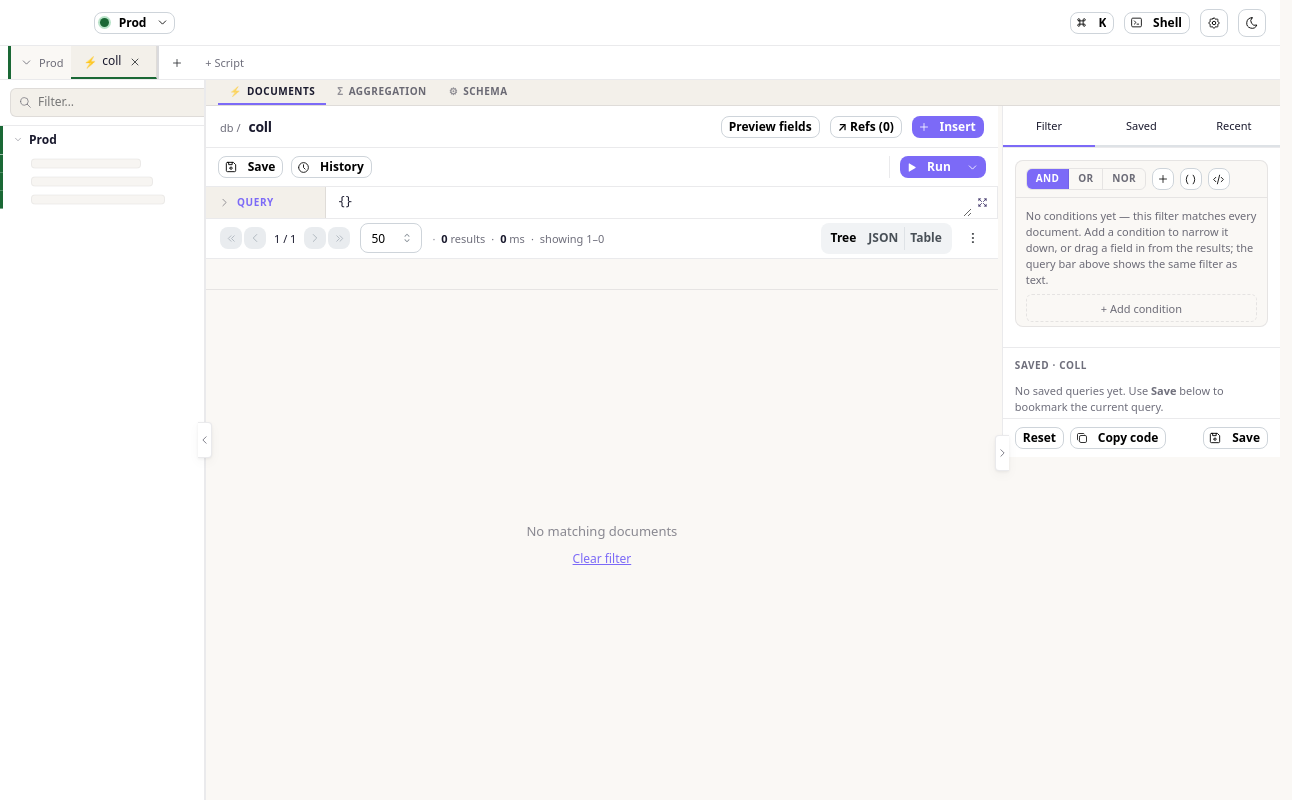
Test: The Focused Tab’s Connection › stops naming a Connection once the last tab is closed
Click the button named "Close coll".
click(135, 62)  # box top-left (126, 52), bottom-right (144, 70)
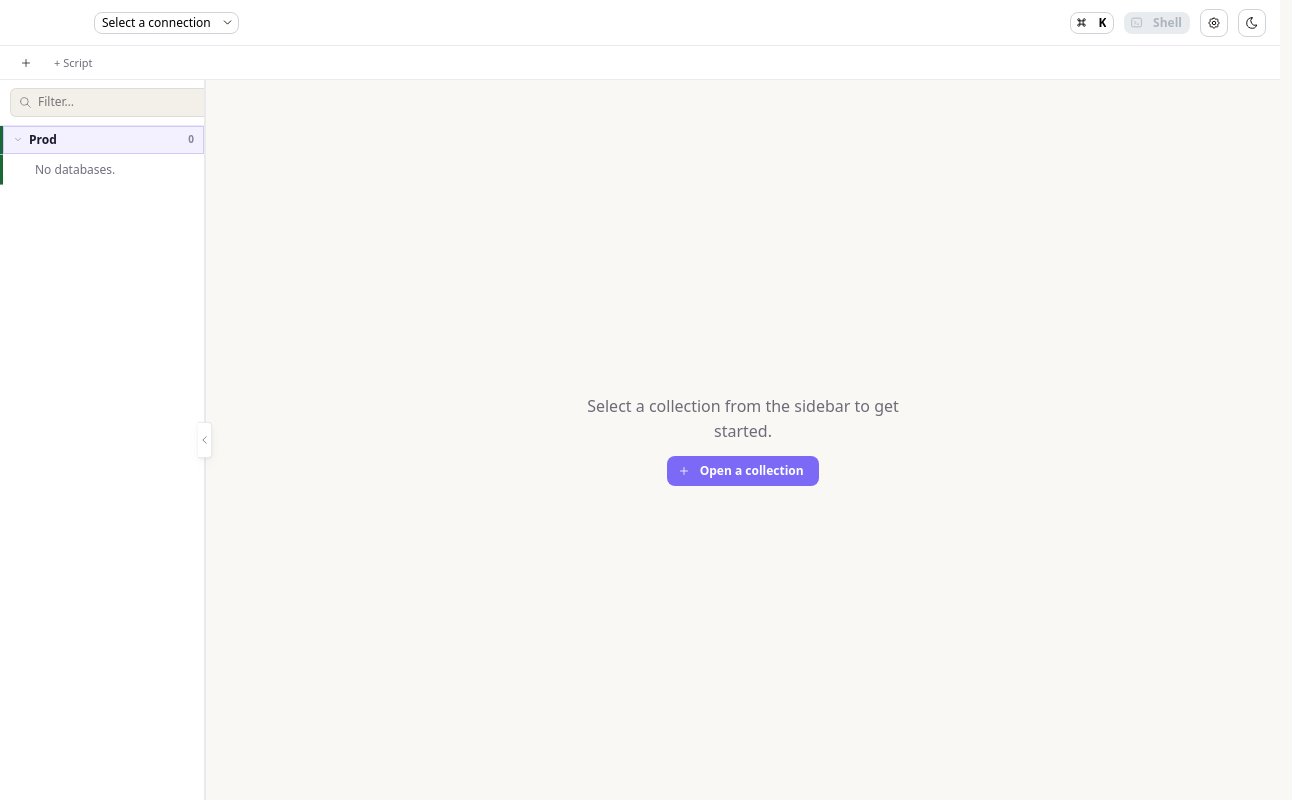
expect the button with aria-label "Connection: none selected" is shown: met, box top-left (94, 12), bottom-right (239, 34)
